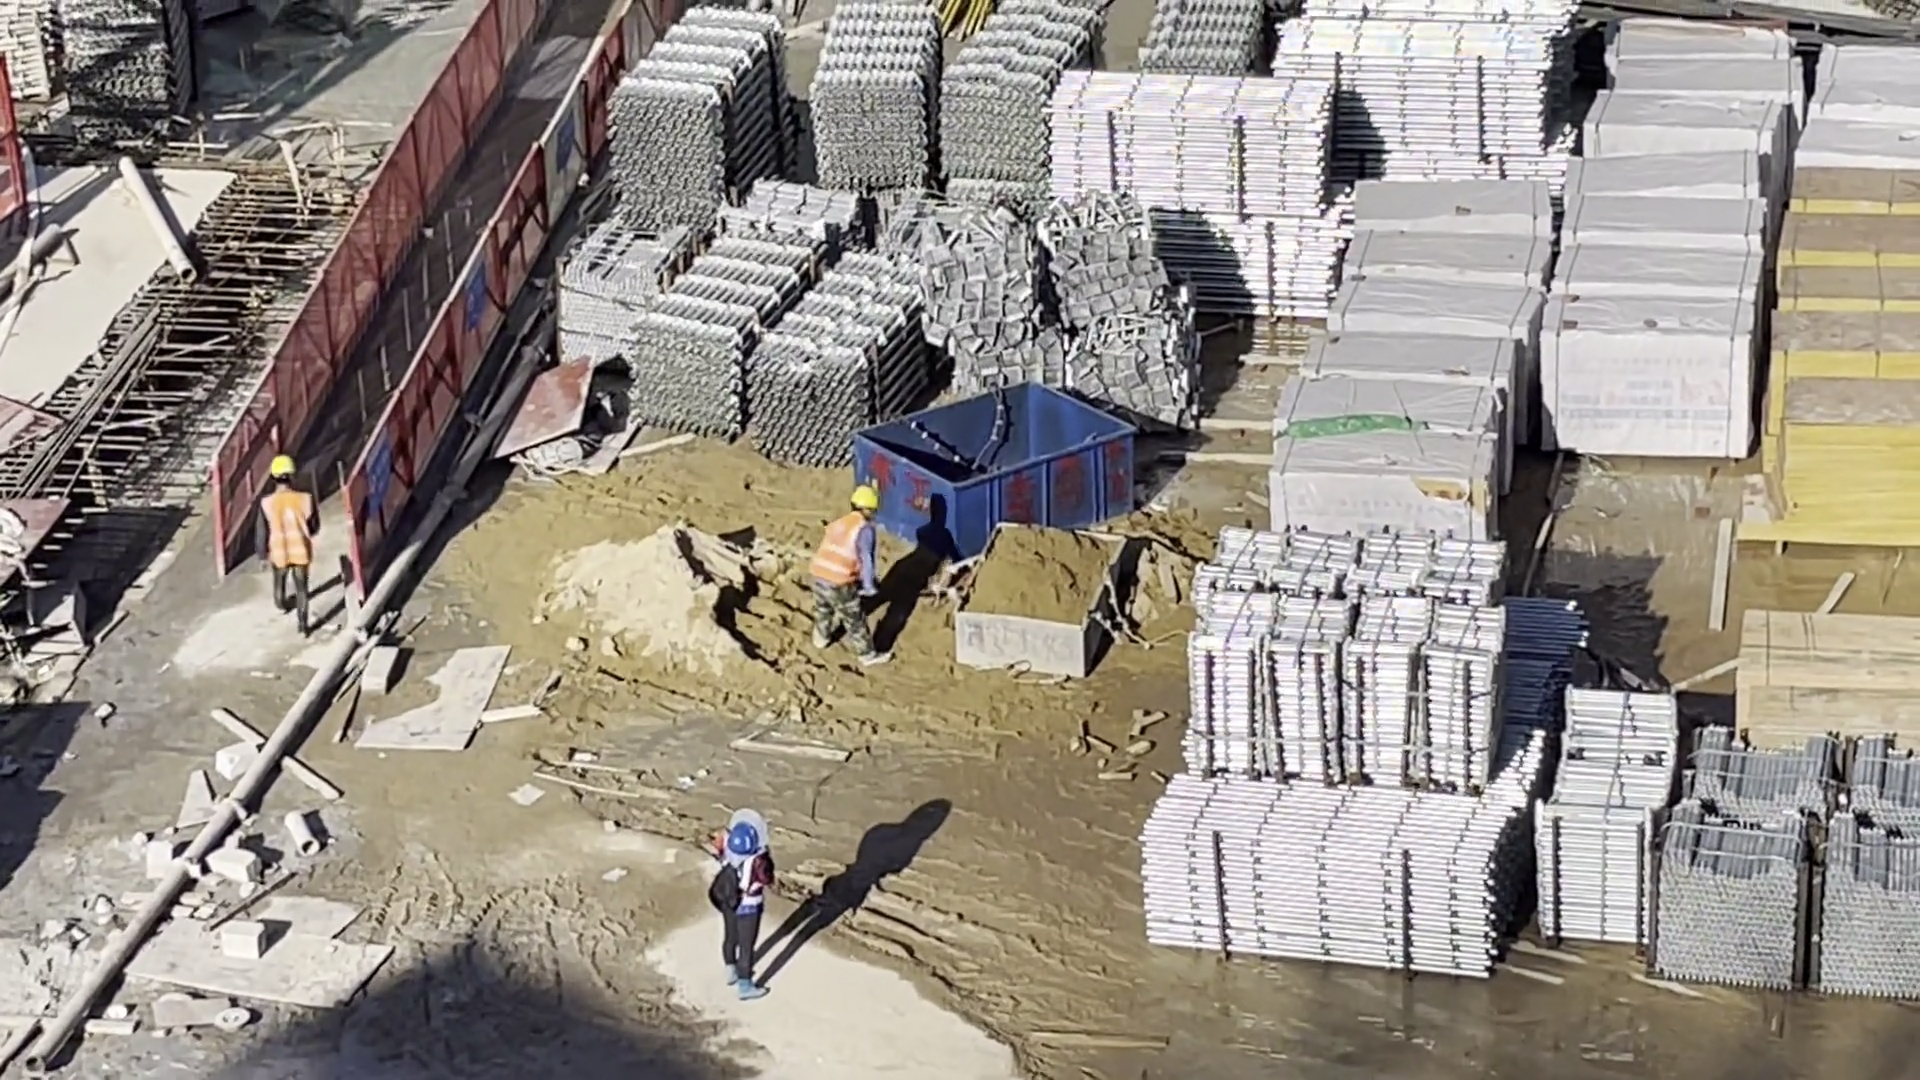board: (1765, 166, 1920, 549), (1742, 615, 1920, 744)
fence: (221, 7, 623, 538)
helmet: (726, 823, 758, 856), (852, 486, 877, 512), (271, 456, 295, 479)
hopper: (858, 379, 1135, 560), (951, 522, 1125, 670)
person: (813, 485, 890, 664), (256, 458, 323, 637), (715, 818, 778, 999)
scaffold: (1190, 530, 1509, 774), (1042, 62, 1335, 324), (1148, 770, 1520, 976), (1652, 727, 1920, 998), (629, 243, 929, 460), (814, 1, 1104, 189), (1286, 1, 1566, 158), (611, 7, 779, 212), (1537, 687, 1660, 946), (56, 1, 194, 142), (1142, 1, 1265, 83), (1, 4, 58, 107)
slogan: (363, 439, 393, 511), (463, 262, 486, 327)
vest: (812, 516, 873, 587), (262, 493, 316, 572), (729, 864, 762, 924)
